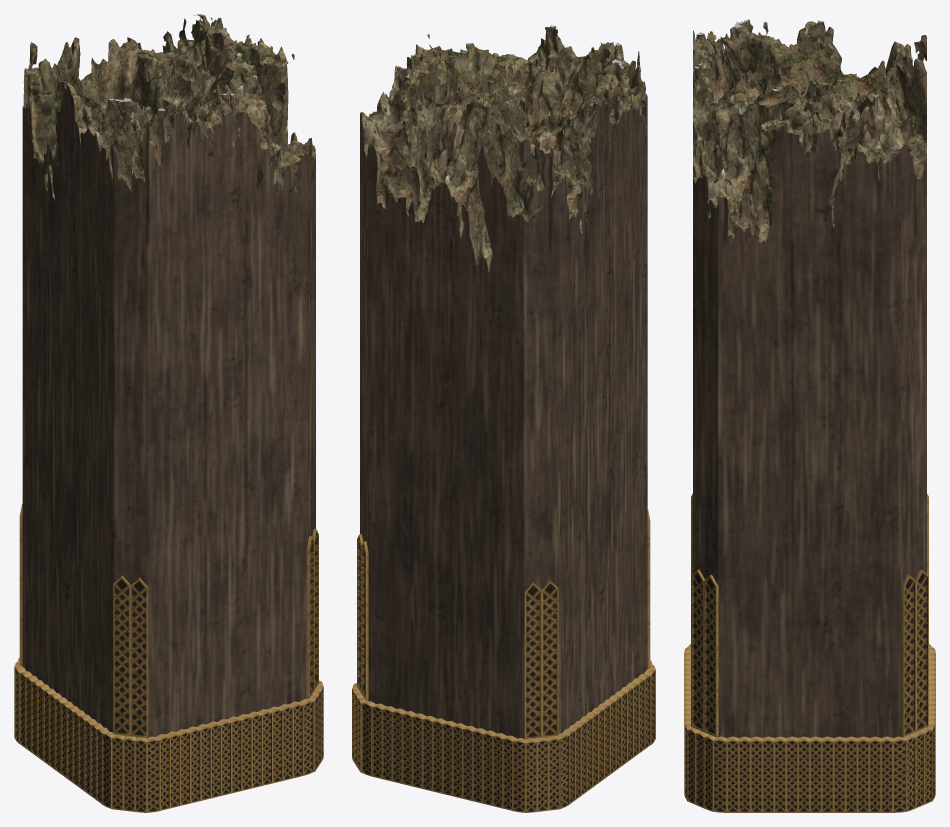
The model's file is SM_Wood_06.fbx.
3 renders of one model, left to right at view 1: azimuth 30°, elevation 25°; view 2: azimuth 150°, elevation 25°; view 3: azimuth 270°, elevation 25°, orthographic. The views are drawn at different scales.
Parts seen in each view (by area): view 1: SM_Wood_06_LOD0; view 2: SM_Wood_06_LOD0; view 3: SM_Wood_06_LOD0.
Part boxes in pixels (x1,y1,x2,y2): SM_Wood_06_LOD0: [14, 14, 323, 812]; SM_Wood_06_LOD0: [352, 25, 655, 812]; SM_Wood_06_LOD0: [684, 19, 935, 812].
Bounding box in the file's own units: 82.66 × 82.64 × 267.
